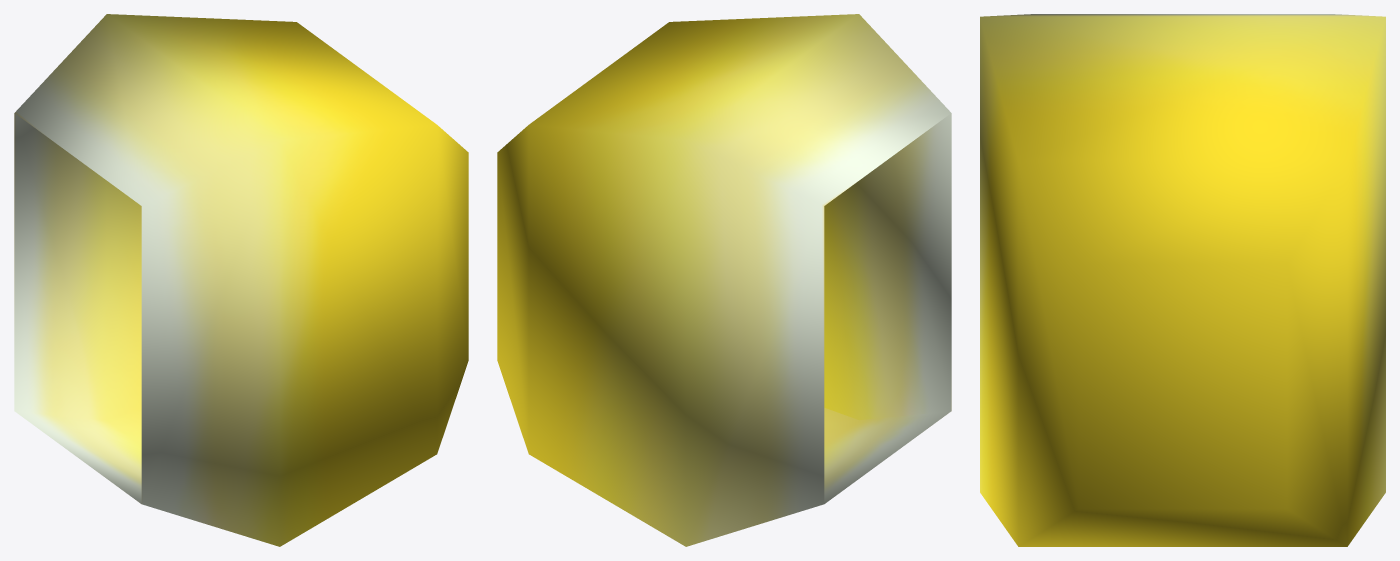
Rendered from misirTextXtoX.fbx.
The picture shows the model from 3 angles, left to right: view 1: azimuth 30°, elevation 25°; view 2: azimuth 150°, elevation 25°; view 3: azimuth 270°, elevation 25°; orthographic projection. The views are drawn at different scales.
Parts seen in each view (by area): view 1: tane_lowpoly.001; view 2: tane_lowpoly.001; view 3: tane_lowpoly.001.
Part boxes in pixels (x1,y1,x2,y2): tane_lowpoly.001: (14, 14, 468, 546); tane_lowpoly.001: (497, 14, 951, 546); tane_lowpoly.001: (980, 14, 1385, 546).
Bounding box in the file's own units: 2.57 × 2.88 × 2.22.
Materials: 1 (1 with a texture image).
